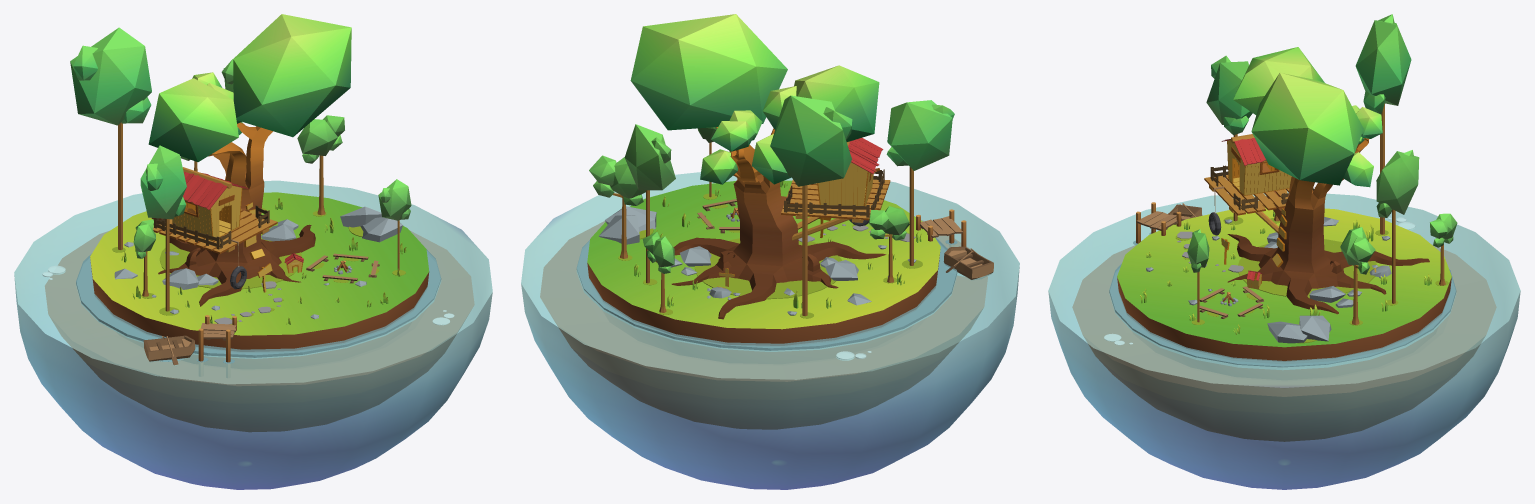
Rendered from tree_house.glb.
3 renders of one model, left to right at view 1: azimuth 30°, elevation 25°; view 2: azimuth 150°, elevation 25°; view 3: azimuth 270°, elevation 25°, orthographic. The views are drawn at different scales.
Visible parts, largest first — view 1: Object_32, Object_11, Object_6, Object_31, Object_7, Object_8, Object_38, Object_36, Object_33, Object_12, Object_35, Object_23 (+9 smaller); view 2: Object_32, Object_11, Object_31, Object_6, Object_38, Object_7, Object_8, Object_36, Object_33, Object_12, Object_35, Object_20 (+7 smaller); view 3: Object_32, Object_11, Object_6, Object_31, Object_38, Object_7, Object_8, Object_36, Object_33, Object_35, Object_23, Object_12 (+6 smaller).
Part boxes in pixels (box(x1,y1,x2,y2)): Object_32: box(14, 180, 492, 489); Object_11: box(70, 14, 411, 289); Object_6: box(90, 192, 429, 335); Object_31: box(45, 231, 474, 403); Object_7: box(90, 262, 429, 368); Object_8: box(85, 354, 443, 431); Object_38: box(151, 122, 315, 306); Object_36: box(76, 249, 441, 363); Object_33: box(114, 206, 402, 319); Object_12: box(118, 122, 399, 311); Object_35: box(112, 208, 405, 324); Object_23: box(172, 185, 242, 240); Object_32: box(521, 172, 1019, 489); Object_11: box(589, 14, 954, 273); Object_31: box(540, 220, 987, 399); Object_6: box(587, 180, 940, 329); Object_38: box(671, 127, 886, 319); Object_7: box(587, 255, 939, 363); Object_8: box(573, 349, 945, 428); Object_36: box(576, 237, 964, 351); Object_33: box(599, 206, 916, 315); Object_12: box(613, 142, 913, 316); Object_35: box(618, 193, 922, 318); Object_20: box(781, 141, 890, 240); Object_32: box(1048, 191, 1520, 489); Object_11: box(1187, 14, 1457, 274); Object_6: box(1117, 207, 1451, 347); Object_31: box(1072, 244, 1496, 413); Object_38: box(1227, 138, 1429, 314); Object_7: box(1117, 277, 1451, 379); Object_8: box(1099, 359, 1469, 441); Object_36: box(1109, 232, 1456, 369); Object_33: box(1146, 217, 1391, 343); Object_35: box(1175, 216, 1448, 343); Object_23: box(1227, 140, 1291, 195); Object_12: box(1197, 103, 1445, 324).
Size of the model in its own units: 22.79 by 21.87 by 22.78.
36 materials, 35 textured.
